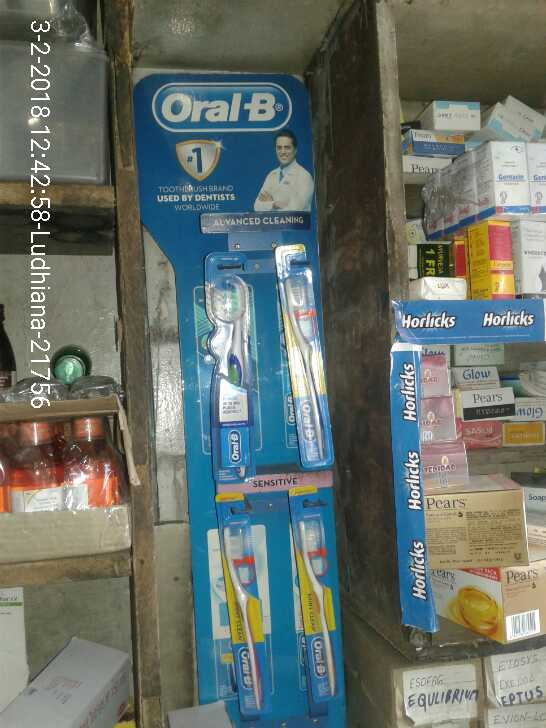oralb: (199, 272, 256, 480), (281, 270, 342, 464), (219, 521, 277, 709), (299, 514, 353, 699)
